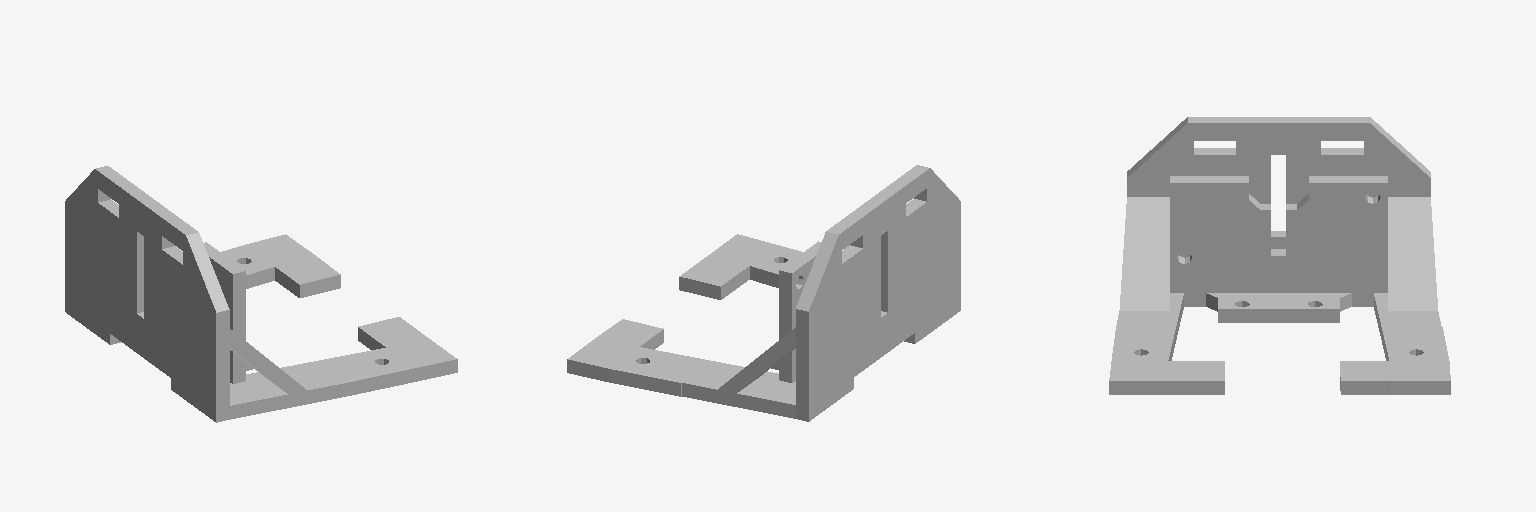
Rendered from inward.obj.
3 views of the same model, side by side, from view 1: azimuth 30°, elevation 25°; view 2: azimuth 150°, elevation 25°; view 3: azimuth 270°, elevation 25° (orthographic).
Visible parts, largest first — view 1: BOEBOT_Mount_V1; view 2: BOEBOT_Mount_V1; view 3: BOEBOT_Mount_V1.
Part boxes in pixels (x1,y1,x2,y2): BOEBOT_Mount_V1: (65,166,457,422); BOEBOT_Mount_V1: (567,165,960,421); BOEBOT_Mount_V1: (1109,117,1450,394).
Size of the model in its own units: 2.21 by 1.5 by 2.81.